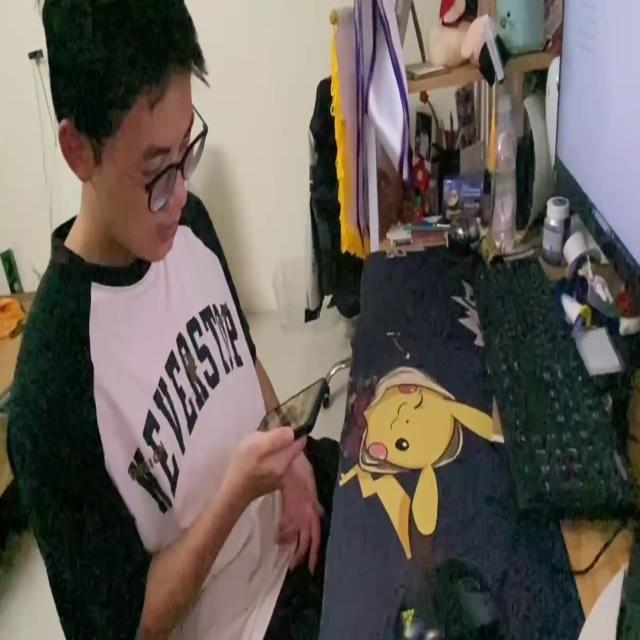laptop: (553, 0, 640, 291)
phone: (254, 377, 331, 440)
student: (9, 0, 335, 640)
